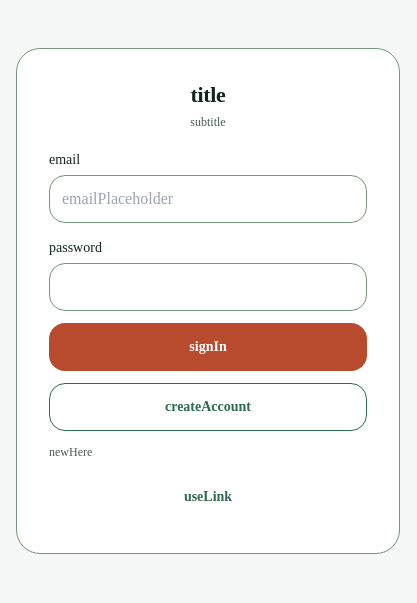
Test: creating an account with a chosen password › sends an existing address back to signing in, instead of a generic failure
Click the button "createAccount" at {"x": 208, "y": 407}, box [49,383,367,431]
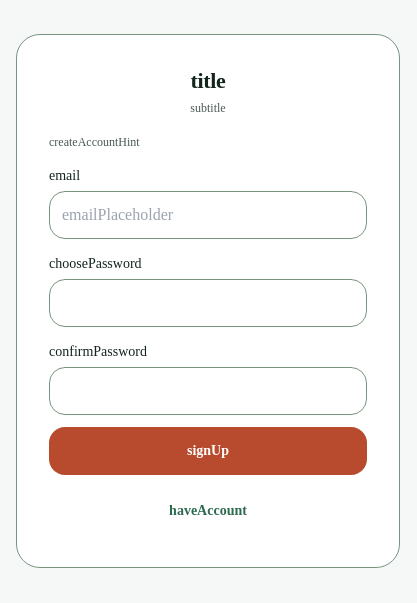
Type "new@example.lk" into the field labelled "email" at {"x": 208, "y": 215}, box [49,191,367,239]
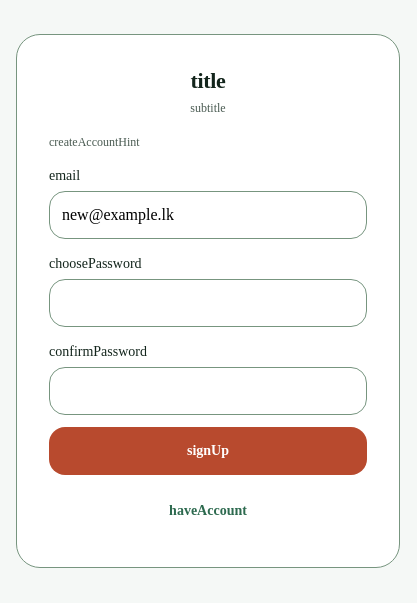
Type "correct-horse" into the password field labelled "choosePassword" at {"x": 208, "y": 303}, box [49,279,367,327]
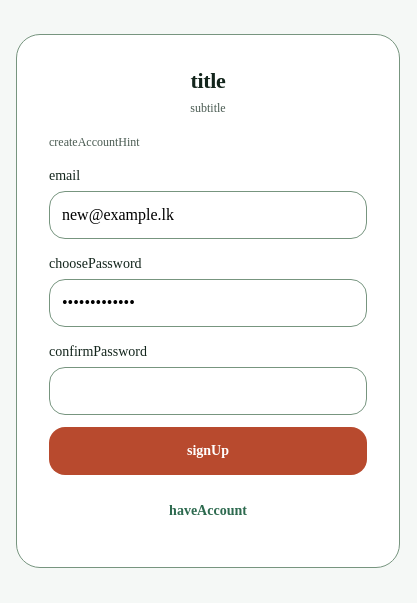
Type "correct-horse" into the password field labelled "confirmPassword" at {"x": 208, "y": 391}, box [49,367,367,415]
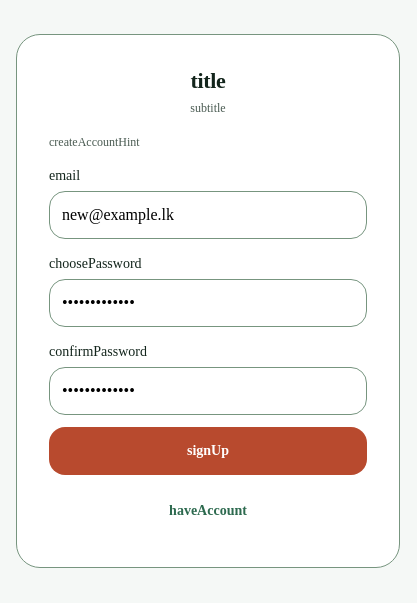
Click the button "signUp" at {"x": 208, "y": 451}, box [49,427,367,475]
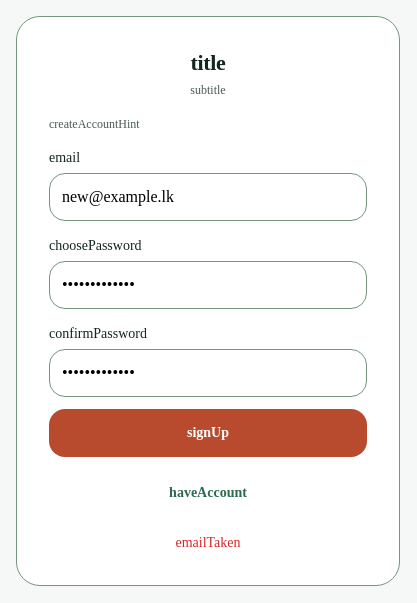
Check: the message reads "emailTaken", box [175,535,240,550]
